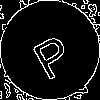P: (25, 25, 76, 82)
